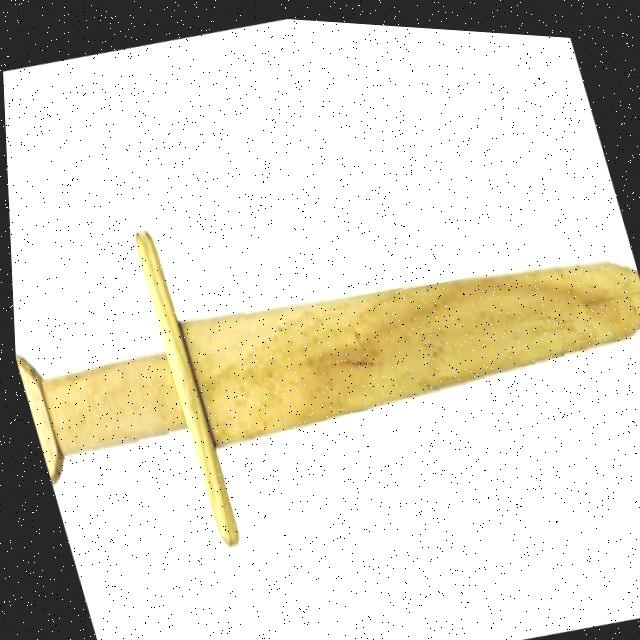knife: (3, 79, 640, 631)
